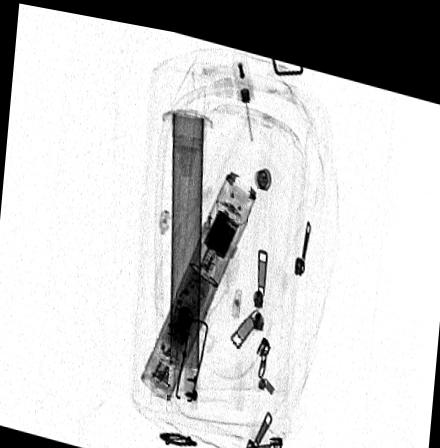Baton: (139, 164, 258, 395)
